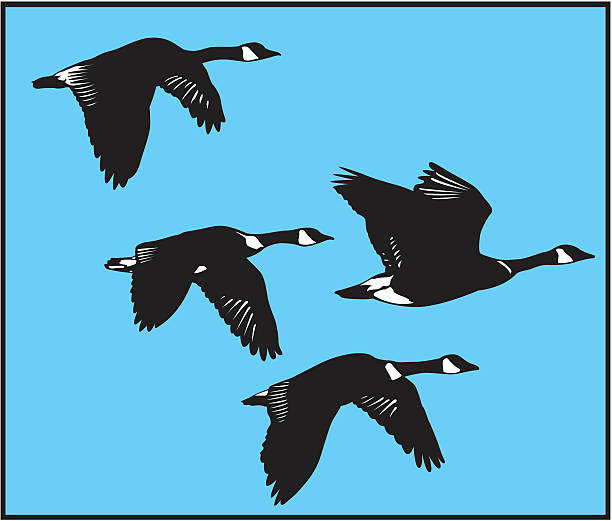goose: (329, 157, 599, 311), (27, 35, 283, 194), (239, 349, 483, 510), (97, 224, 334, 364)
